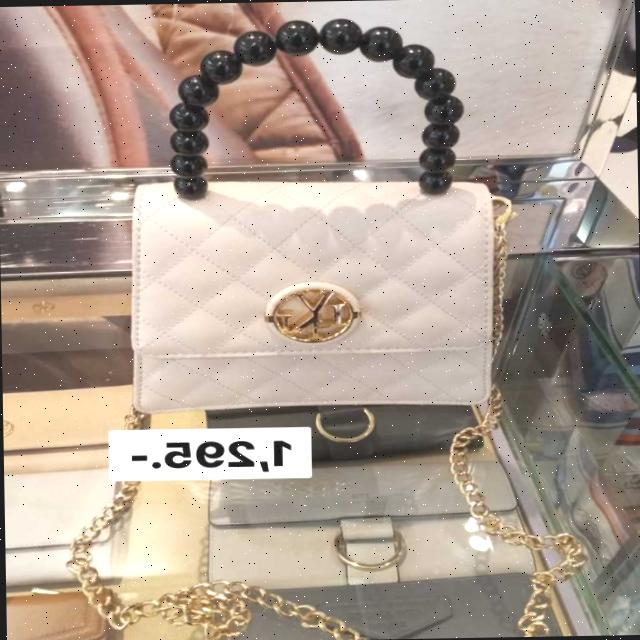handbag: (121, 112, 508, 439)
